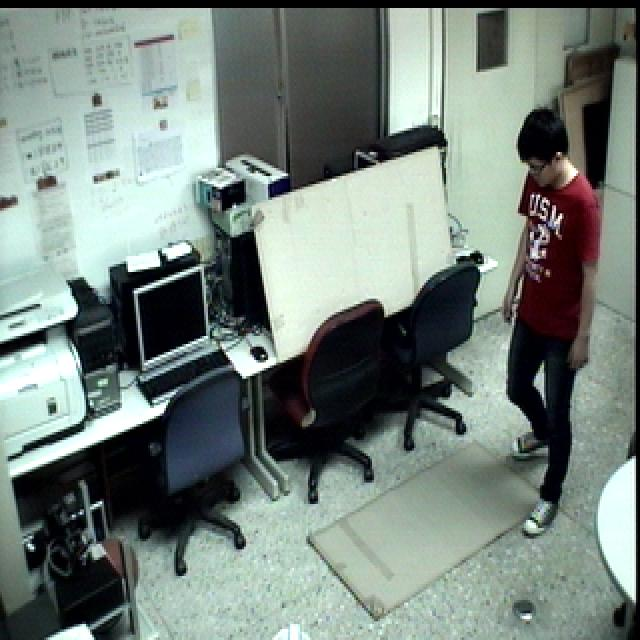stand: (497, 97, 612, 538)
